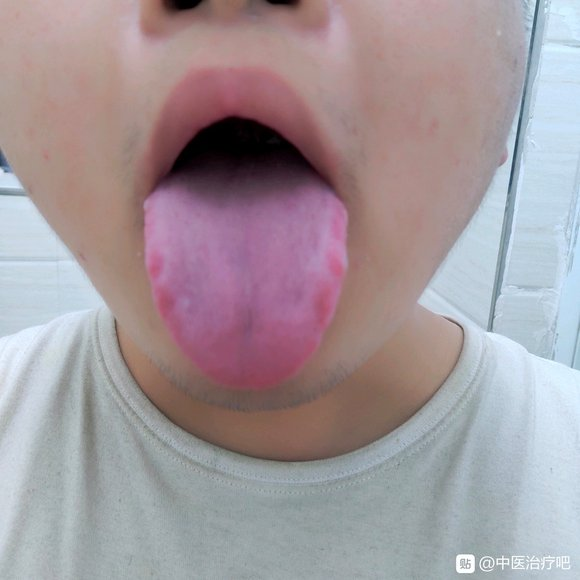baitaishe: (144, 156, 348, 390)
chihenshe: (314, 207, 347, 338), (145, 233, 178, 330)
zishe: (144, 156, 348, 390)
